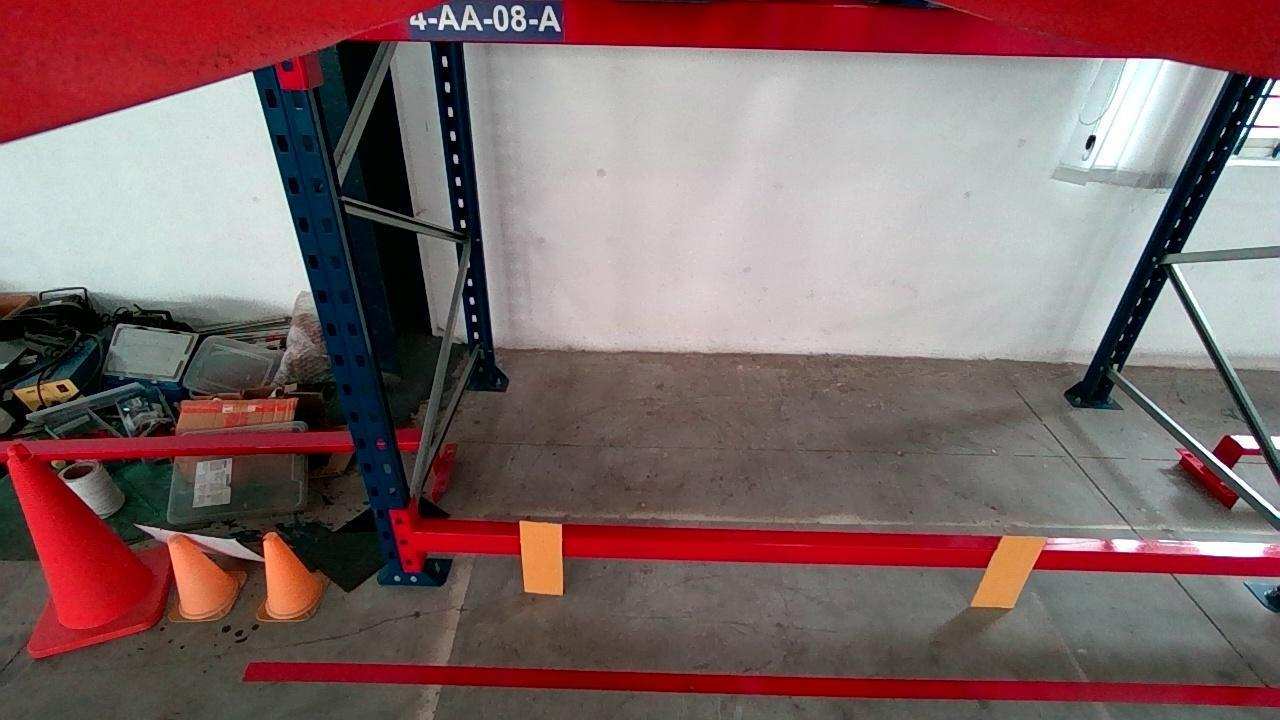h_rack: (346, 1, 1132, 56), (416, 528, 1278, 575)
orange_strip: (971, 534, 1047, 610), (523, 519, 560, 594)
red_line: (243, 662, 1280, 704)
